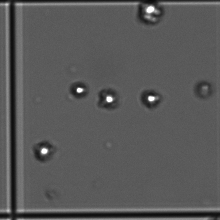Dead Cell: (195, 80, 214, 99)
Living Cell: (137, 2, 165, 23), (32, 141, 53, 160), (99, 91, 117, 108), (144, 92, 161, 106), (72, 83, 85, 98)
